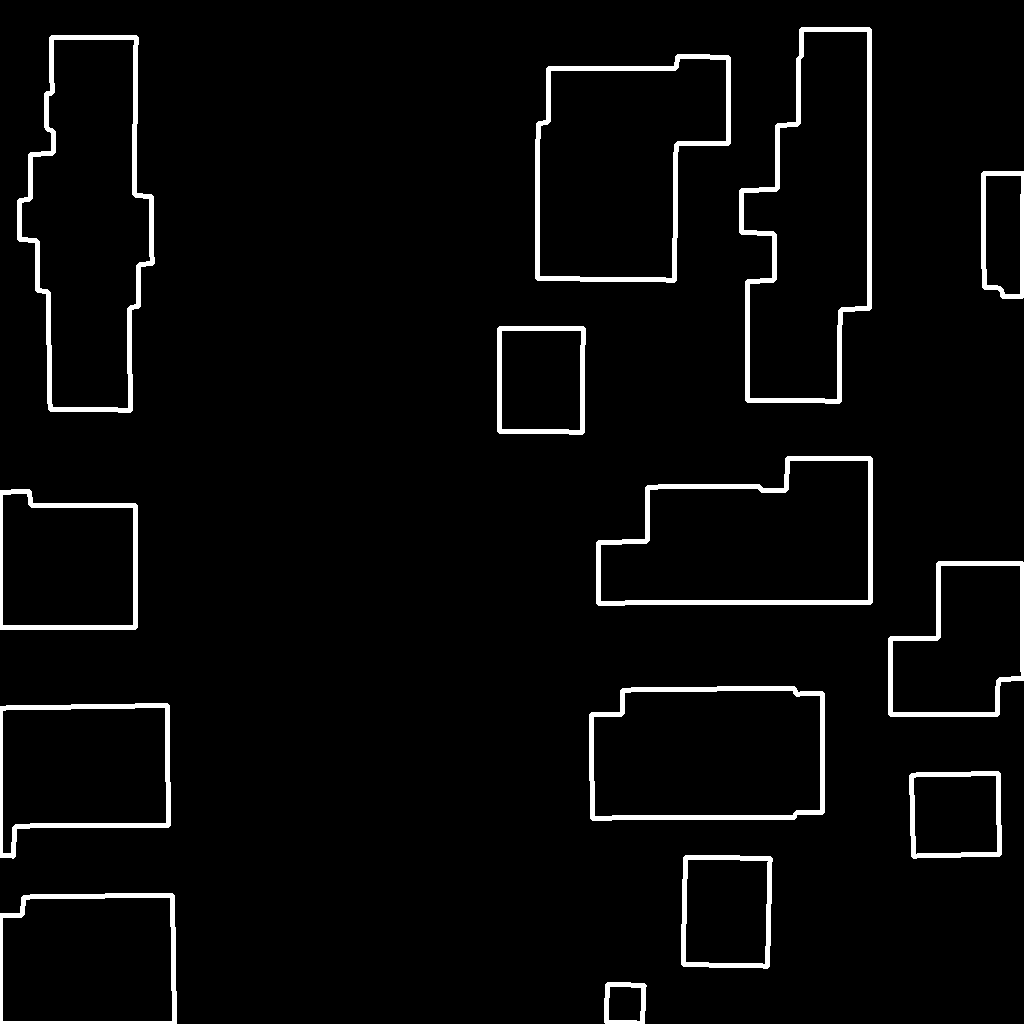building: (19, 37, 153, 411), (741, 29, 870, 402), (537, 56, 729, 281), (598, 458, 872, 604), (591, 688, 824, 819), (0, 705, 170, 857), (0, 895, 176, 1024), (0, 491, 137, 628), (890, 638, 1024, 715), (683, 857, 771, 967), (499, 328, 584, 433), (911, 773, 1001, 857), (938, 563, 1024, 639), (983, 173, 1024, 297), (606, 984, 645, 1024)
